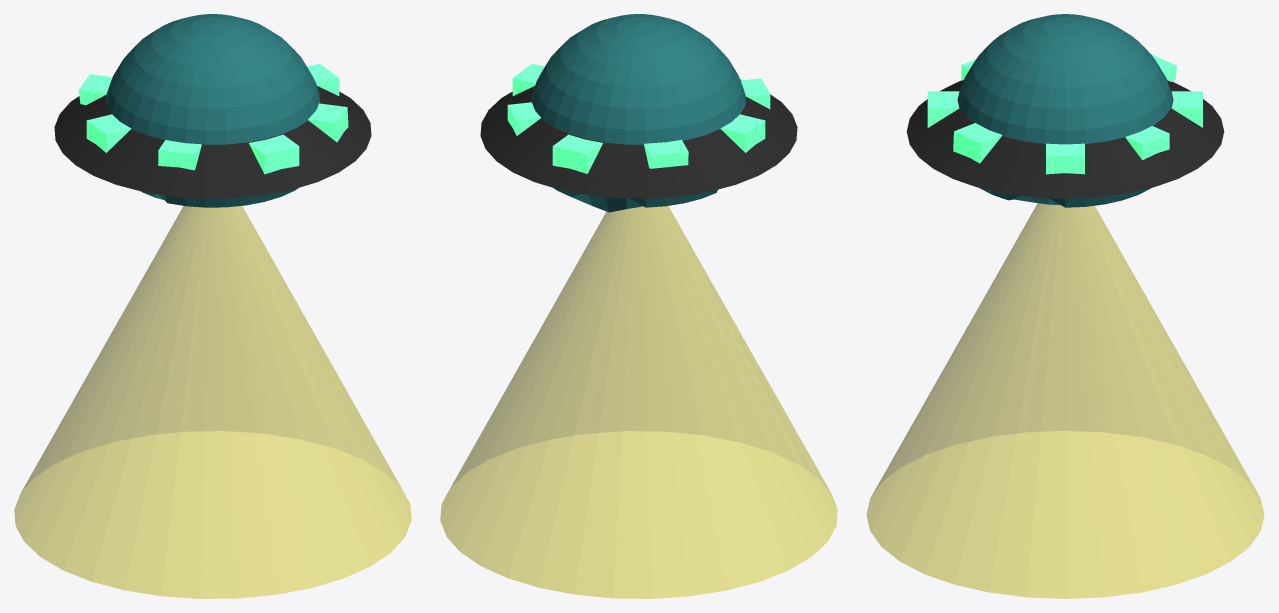
The model's file is UFO.fbx.
The picture shows the model from 3 angles, left to right: view 1: azimuth 30°, elevation 25°; view 2: azimuth 150°, elevation 25°; view 3: azimuth 270°, elevation 25°; orthographic projection.
Parts seen in each view (by area): view 1: Ray, Cabin, Body, Light4, Light1, Light2, Light3; view 2: Ray, Cabin, Body, Light1, Light2, Light3, Light4; view 3: Ray, Cabin, Body, Light2, Light4, Light1, Light3.
Boxes of the visible parts, x1,y1,x2,y2 form: Ray: (14, 206, 411, 598); Cabin: (106, 14, 319, 207); Body: (54, 86, 371, 198); Light4: (78, 74, 348, 142); Light1: (86, 63, 339, 152); Light2: (126, 53, 299, 174); Light3: (158, 140, 201, 170); Ray: (440, 206, 837, 598); Cabin: (532, 14, 745, 212); Body: (480, 79, 797, 198); Light1: (512, 63, 765, 152); Light2: (552, 53, 725, 173); Light3: (507, 78, 770, 135); Light4: (644, 139, 688, 168); Ray: (866, 203, 1264, 598); Cabin: (958, 14, 1172, 207); Body: (906, 80, 1224, 198); Light2: (927, 91, 1202, 127); Light4: (953, 54, 1176, 163); Light1: (1046, 143, 1084, 174); Light3: (961, 59, 1169, 160).
Bounding box in the file's own units: 357 × 485 × 357.
